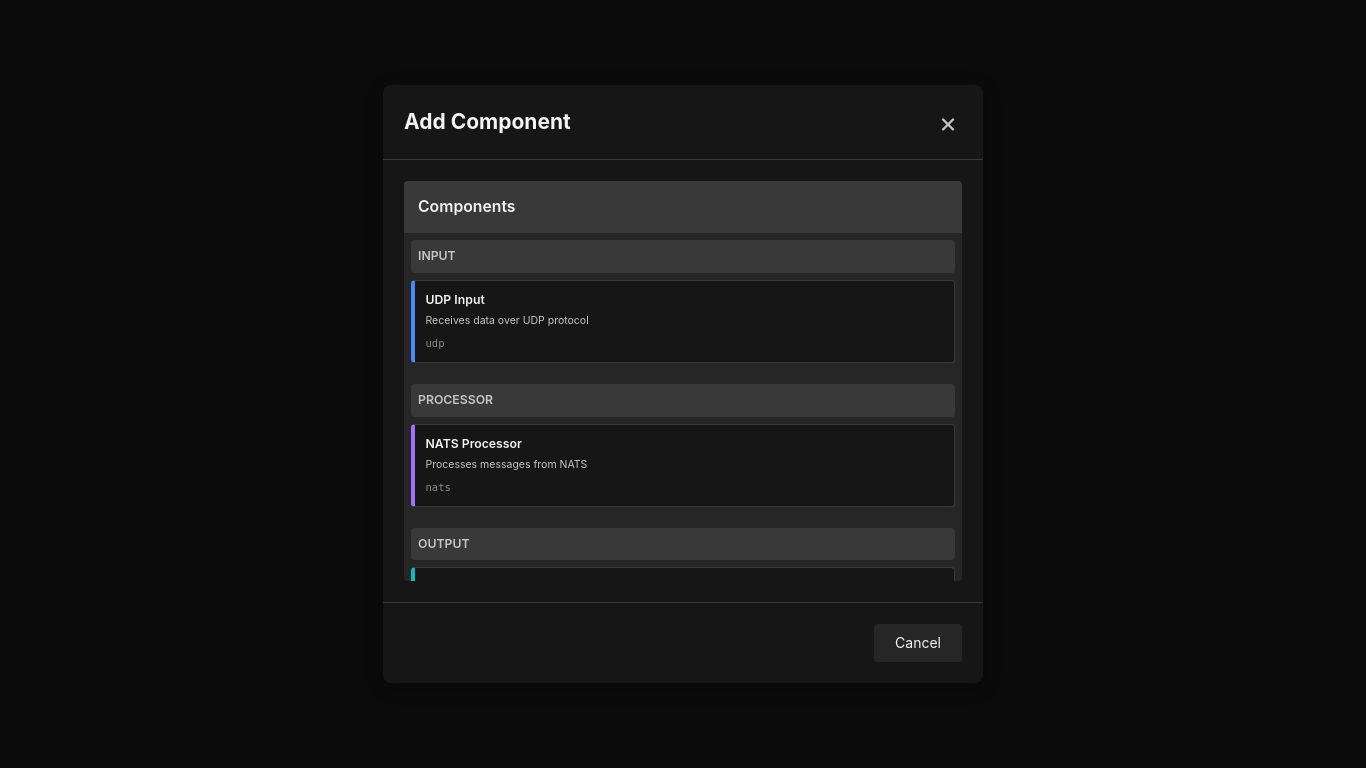
Test case: AddComponentModal › Form Validation › should disable Add button when required config field is empty
The width and height of the screenshot is (1366, 768).
Step 1. Double-click the button "UDP Input Receives data over UDP protocol udp" → (455, 300), box [411,280,955,363]
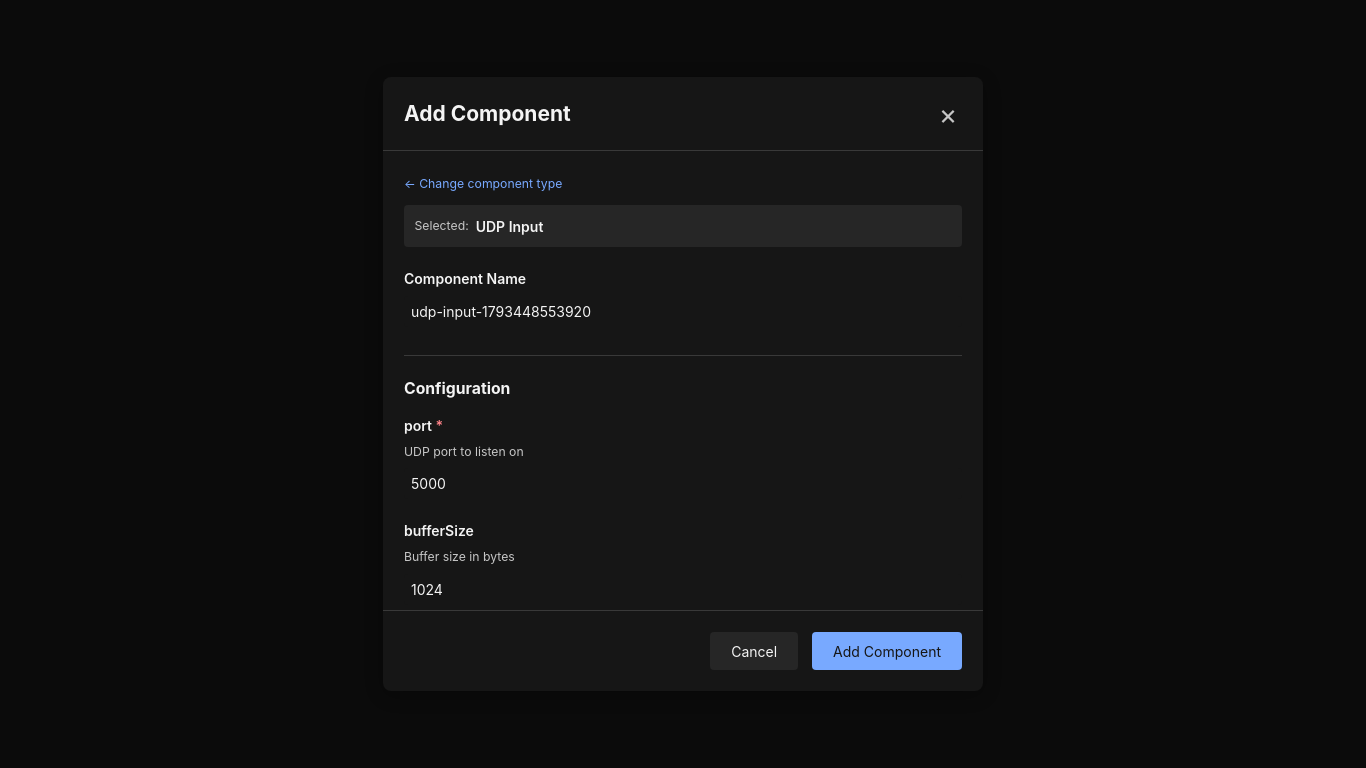
# Clear required field
Step 2. Clear the number field named "config.port" → (683, 484), box [404,468,962,499]
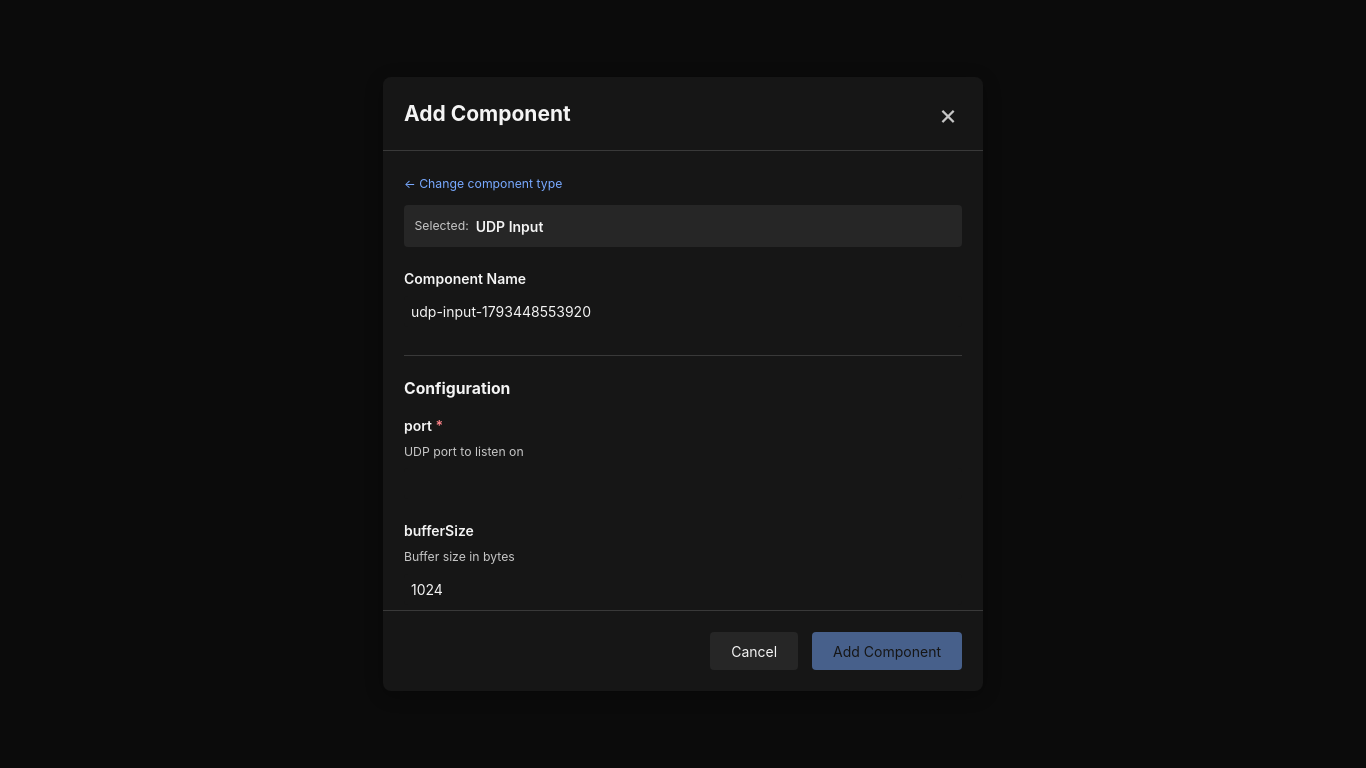
Expected: the button "Add Component" is disabled, [812,632,962,670]
